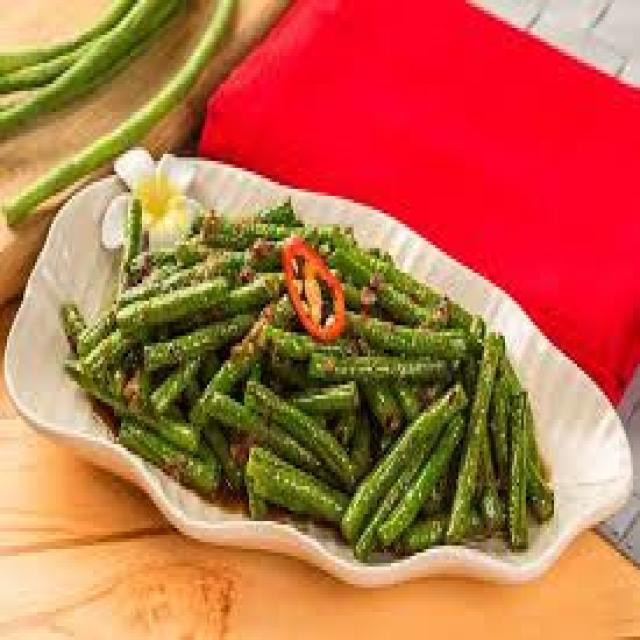kacang_panjang: (73, 177, 568, 574)
